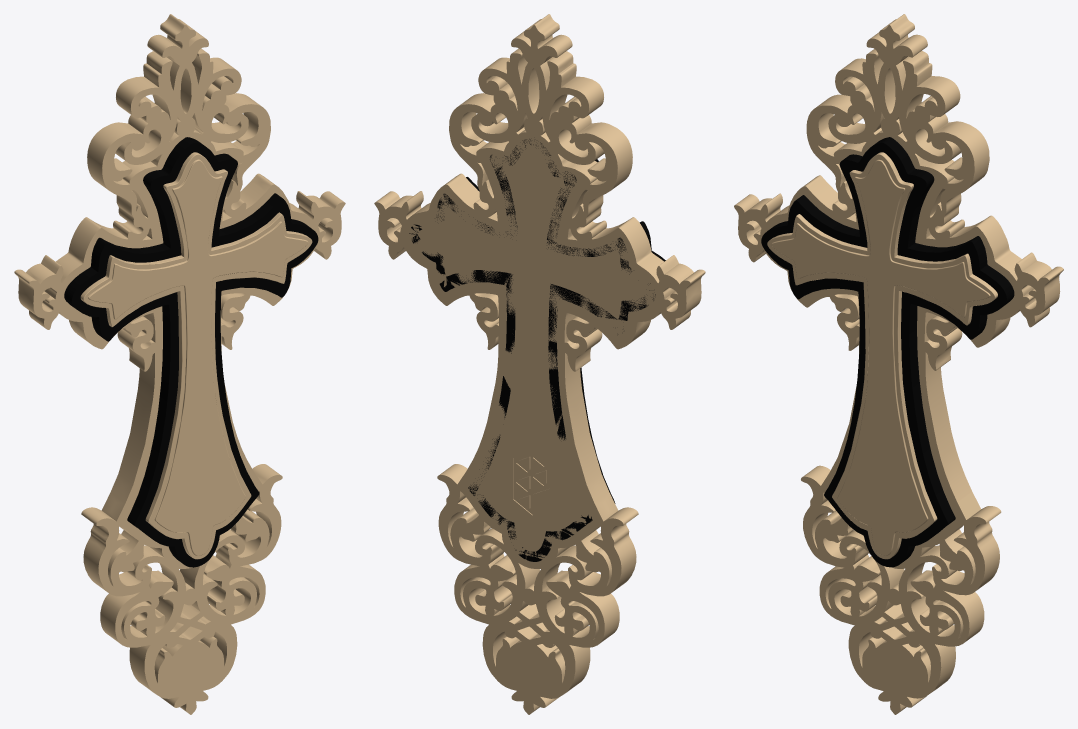
File: uploads_files_3859098_3D_Christian_Cross.fbx
3 renders of one model, left to right at view 1: azimuth 30°, elevation 25°; view 2: azimuth 150°, elevation 25°; view 3: azimuth 330°, elevation 25°, orthographic.
Parts seen in each view (by area): view 1: Cruz, Body2; view 2: Cruz, Body2; view 3: Cruz, Body2.
Part boxes in pixels (bbox=[...]): Cruz: bbox=[14, 14, 345, 714]; Body2: bbox=[64, 137, 318, 567]; Cruz: bbox=[374, 14, 705, 714]; Body2: bbox=[409, 139, 665, 561]; Cruz: bbox=[734, 14, 1063, 714]; Body2: bbox=[761, 137, 1014, 567].
Bounding box in the file's own units: 122 × 254 × 17.5.
